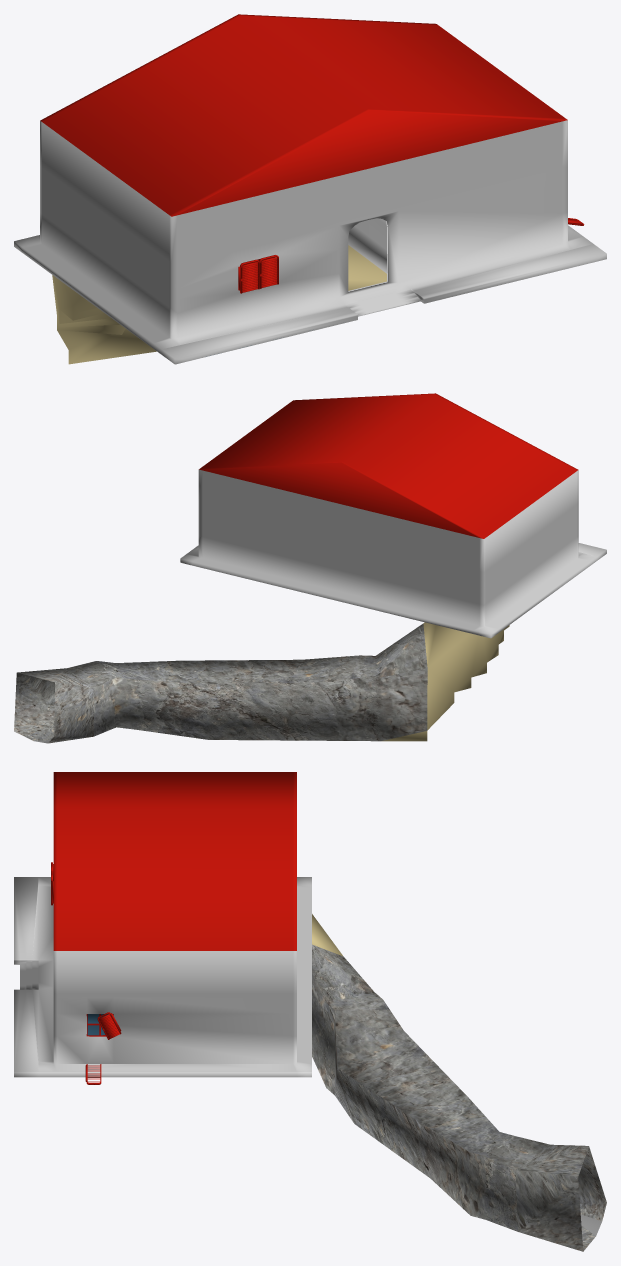
The model's file is FirstFloor.fbx.
The picture shows the model from 3 angles, top to bottom: view 1: azimuth 30°, elevation 25°; view 2: azimuth 150°, elevation 25°; view 3: azimuth 270°, elevation 25°; orthographic projection. The views are drawn at different scales.
Visible parts, largest first — view 1: Manor; view 2: Manor; view 3: Manor.
Part boxes in pixels (x1,y1,x2,y2): Manor: (14,14,606,364); Manor: (14,393,606,743); Manor: (14,772,606,1251).
Bounding box in the file's own units: 15.2 × 9.52 × 16.35.
